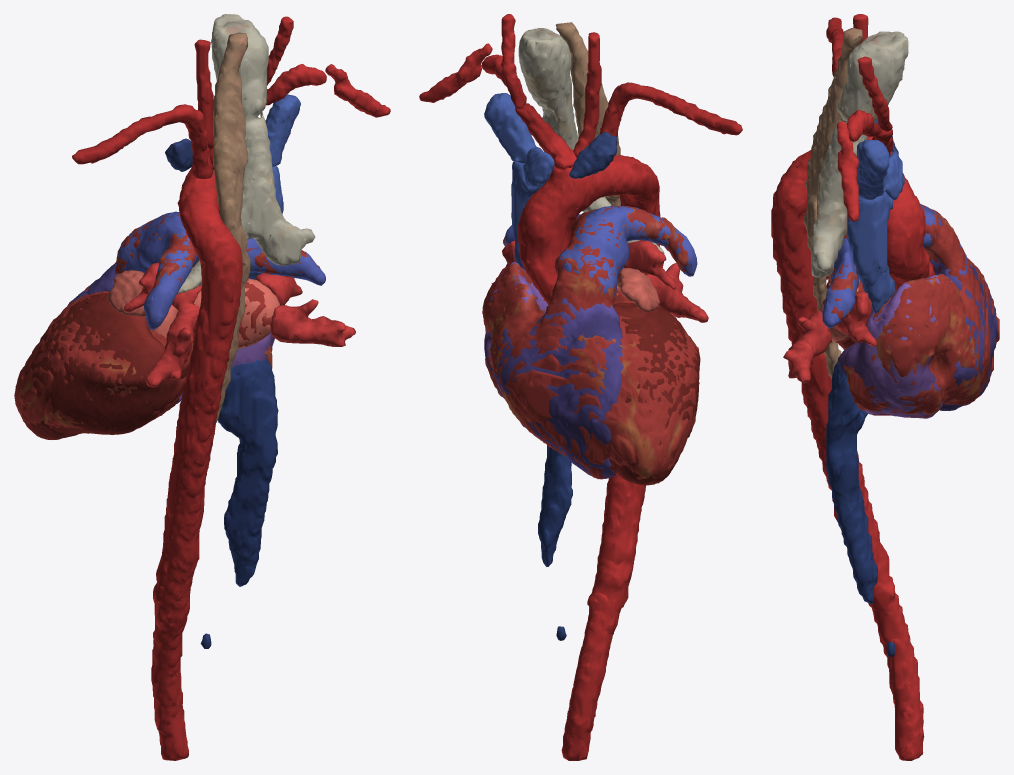
Rendered from cta-cardio.glb.
3 renders of one model, left to right at view 1: azimuth 30°, elevation 25°; view 2: azimuth 150°, elevation 25°; view 3: azimuth 270°, elevation 25°, orthographic. The views are drawn at different scales.
Parts seen in each view (by area): view 1: aorta, heart_myocardium, inferior_vena_cava, trachea, heart, esophagus, pulmonary_vein, pulmonary_artery, subclavian_artery_left, subclavian_artery_right, heart_atrium_left, brachiocephalic_vein_right (+5 smaller); view 2: heart, aorta, heart_ventricle_right, heart_myocardium, trachea, pulmonary_artery, pulmonary_vein, inferior_vena_cava, subclavian_artery_left, brachiocephalic_vein_left, esophagus, brachiocephalic_vein_right (+7 smaller); view 3: aorta, heart, trachea, inferior_vena_cava, heart_atrium_right, esophagus, superior_vena_cava, pulmonary_vein, heart_ventricle_right, subclavian_artery_right, pulmonary_artery, brachiocephalic_vein_right (+3 smaller).
Part boxes in pixels (<box>): aorta: <box>151,169,242,760</box>; heart_myocardium: <box>20,293,185,439</box>; inferior_vena_cava: <box>200,359,278,648</box>; trachea: <box>178,14,315,292</box>; heart: <box>14,214,320,428</box>; esophagus: <box>213,32,250,422</box>; pulmonary_vein: <box>124,262,355,387</box>; pulmonary_artery: <box>118,211,325,329</box>; subclavian_artery_left: <box>72,104,212,178</box>; subclavian_artery_right: <box>266,64,390,117</box>; heart_atrium_left: <box>153,278,279,350</box>; brachiocephalic_vein_right: <box>265,94,300,166</box>; heart: <box>482,205,699,484</box>; aorta: <box>518,155,660,760</box>; heart_ventricle_right: <box>492,298,623,478</box>; heart_myocardium: <box>613,303,700,485</box>; trachea: <box>518,28,664,253</box>; pulmonary_artery: <box>503,205,697,298</box>; pulmonary_vein: <box>491,240,708,322</box>; inferior_vena_cava: <box>538,445,572,640</box>; subclavian_artery_left: <box>599,82,742,137</box>; brachiocephalic_vein_left: <box>523,132,617,187</box>; esophagus: <box>556,22,620,205</box>; brachiocephalic_vein_right: <box>484,93,536,163</box>; aorta: <box>771,150,934,760</box>; heart: <box>822,204,999,417</box>; trachea: <box>811,31,908,277</box>; inferior_vena_cava: <box>826,357,894,656</box>; heart_atrium_right: <box>838,275,952,418</box>; esophagus: <box>803,28,862,379</box>; superior_vena_cava: <box>847,191,895,313</box>; pulmonary_vein: <box>783,276,876,383</box>; heart_ventricle_right: <box>930,243,997,410</box>; subclavian_artery_right: <box>836,109,881,221</box>; pulmonary_artery: <box>822,204,942,328</box>; brachiocephalic_vein_right: <box>857,140,889,199</box>.
Size of the model in its own units: 0.1872 by 0.4013 by 0.112.
